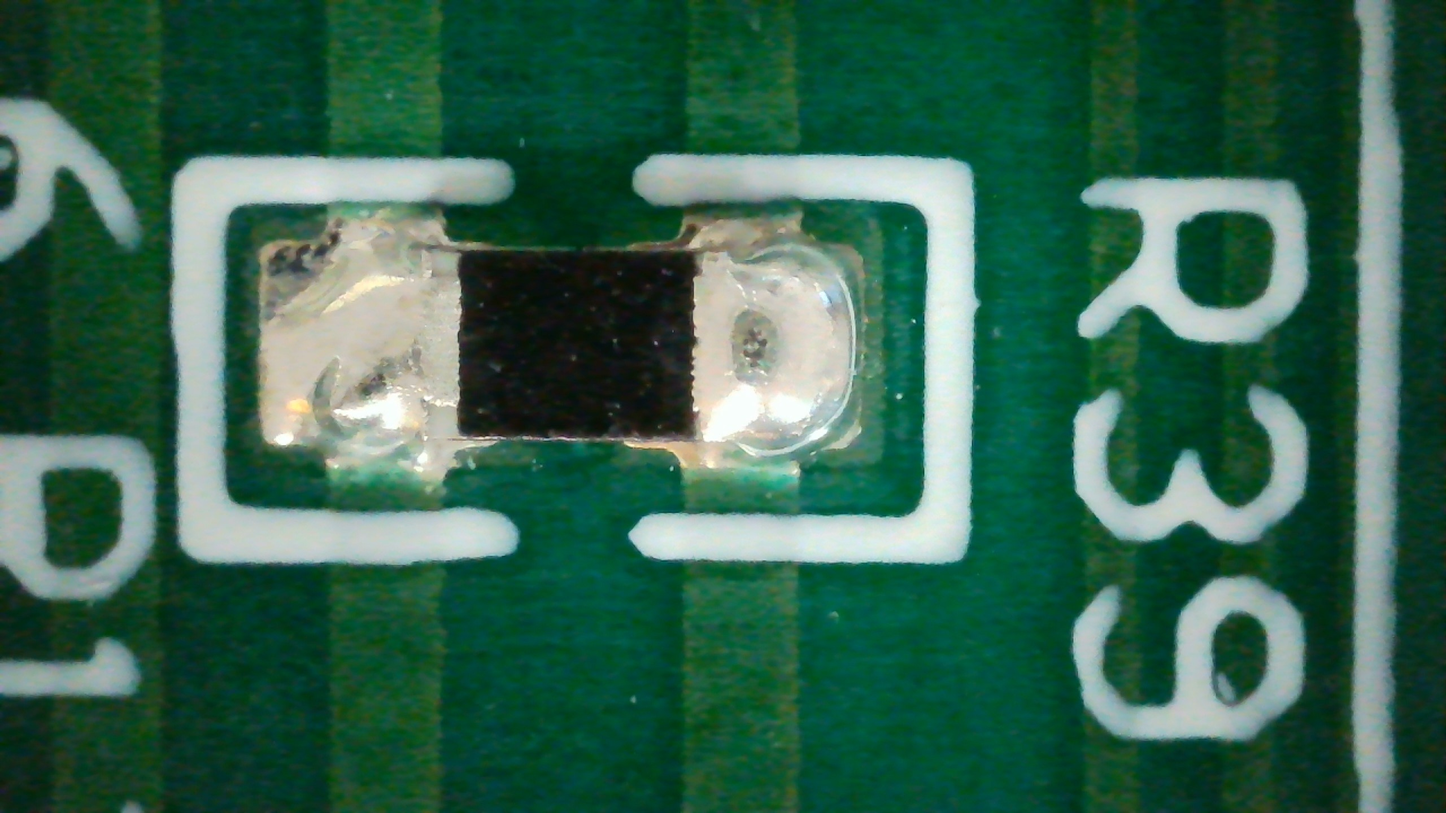OK: (258, 211, 860, 475)
